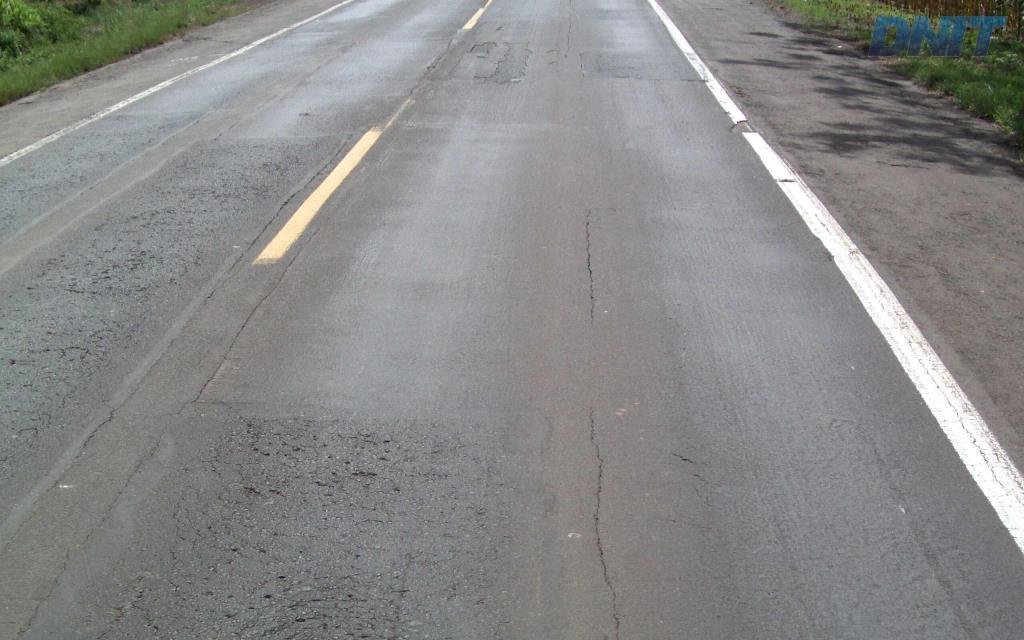crack: (593, 445, 612, 590), (258, 606, 332, 639)
